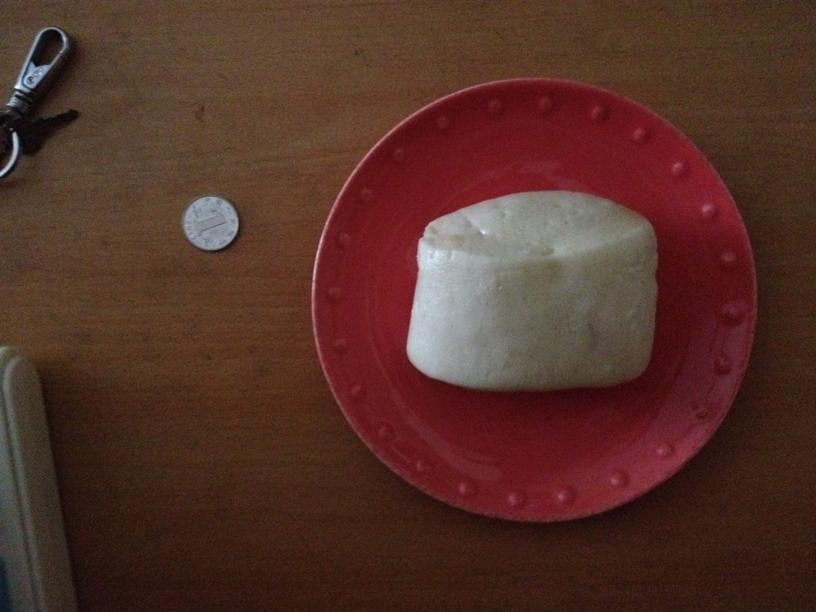bun: (409, 192, 658, 390)
coin: (183, 194, 238, 251)
